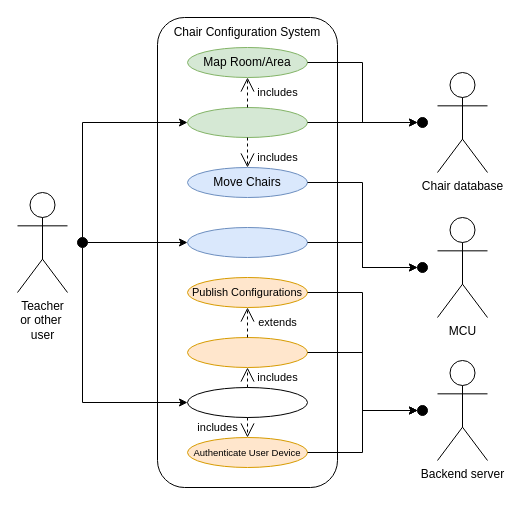
Some shapes in this 521 by 505 pixel diagram are drawn without their labels. Here are the shapes that lost their labels. From the top down, the box of each, then its label:
(186, 106, 308, 138): Design Groups
(186, 226, 308, 258): Monitor Battery
(186, 336, 308, 368): Store User Settings
(186, 386, 308, 418): Login
